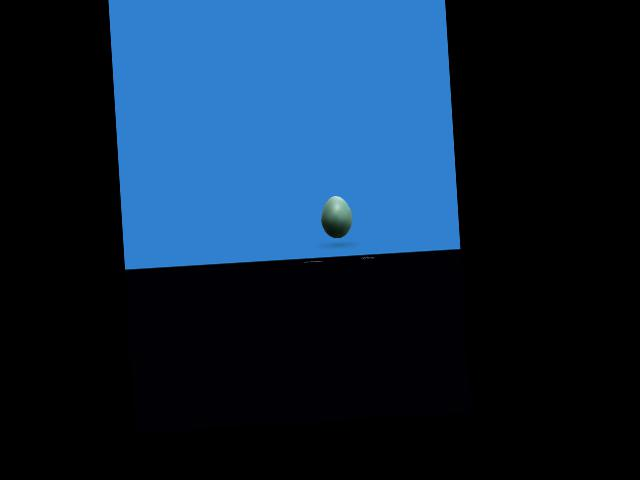egg: (319, 195, 352, 238)
